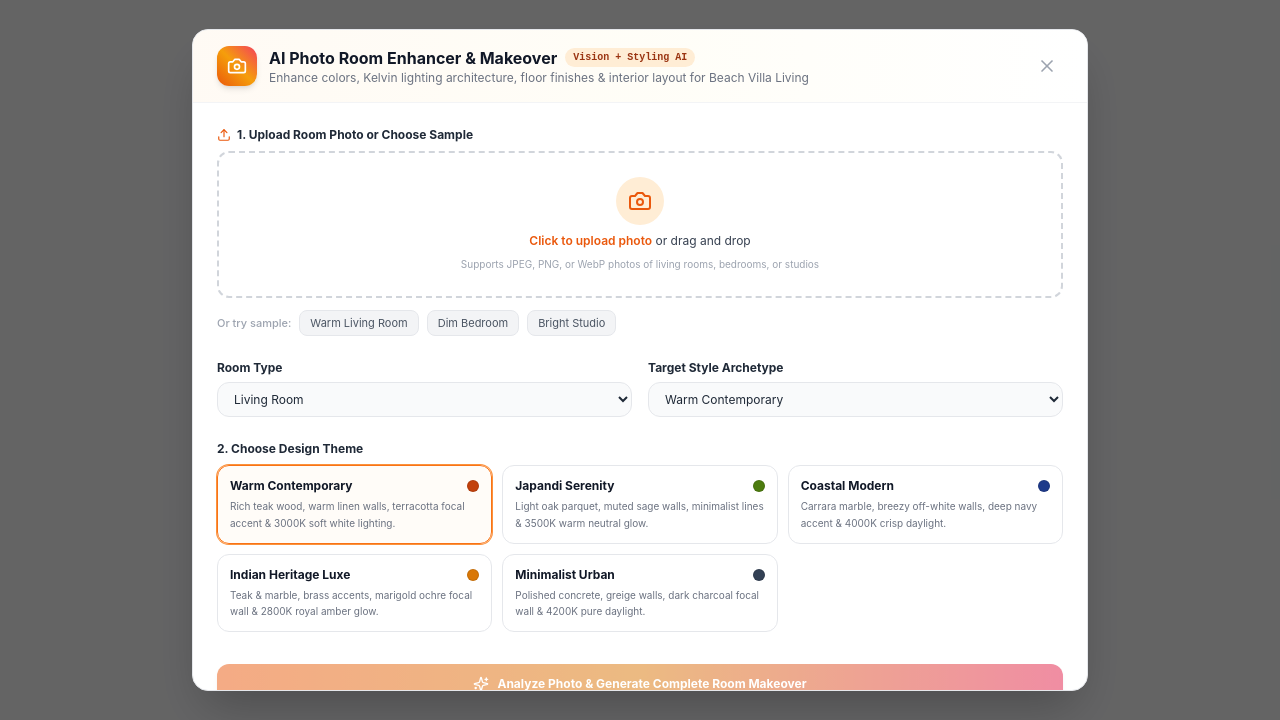
AIRoomEnhancerModal › enables analysis and displays proposal when sample is selected and analyzed
The width and height of the screenshot is (1280, 720).
Select sample preset
Click the button "Warm Living Room" at (359, 323), box [299, 310, 419, 336]
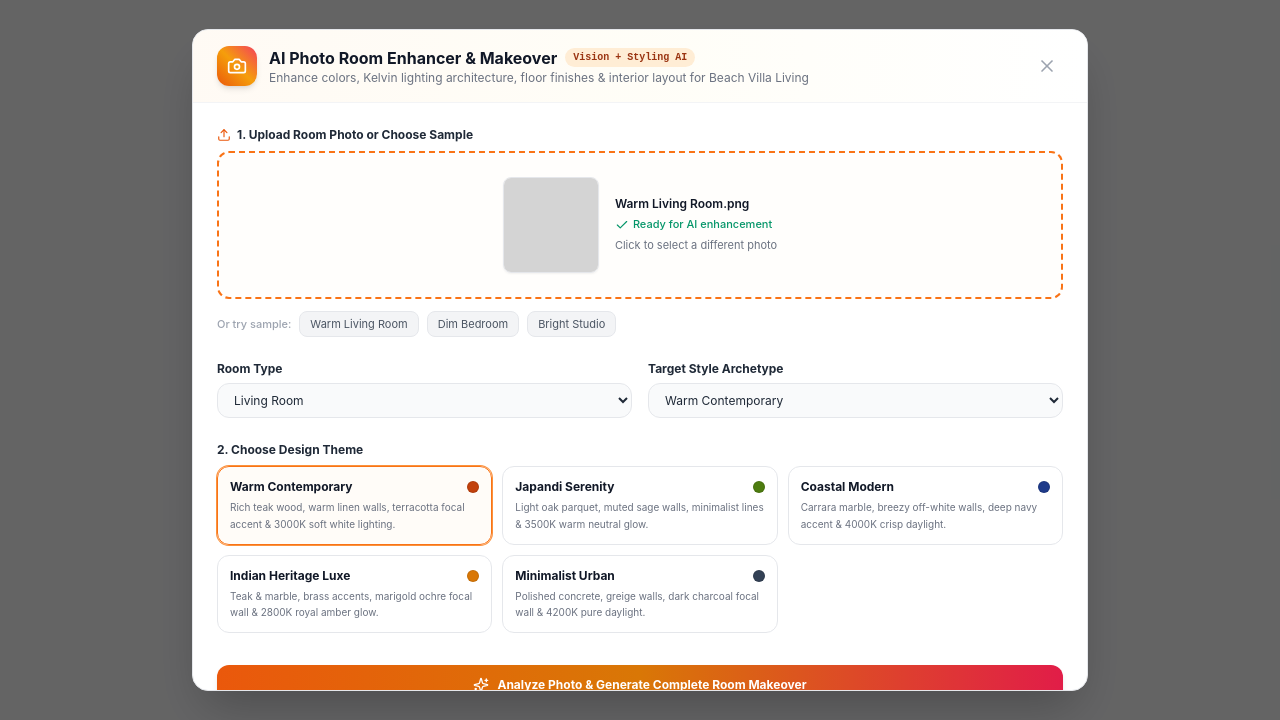
Click the button "Analyze Photo & Generate Complete Room Makeover" at (640, 685), box [217, 665, 1063, 705]
(page scrolled)
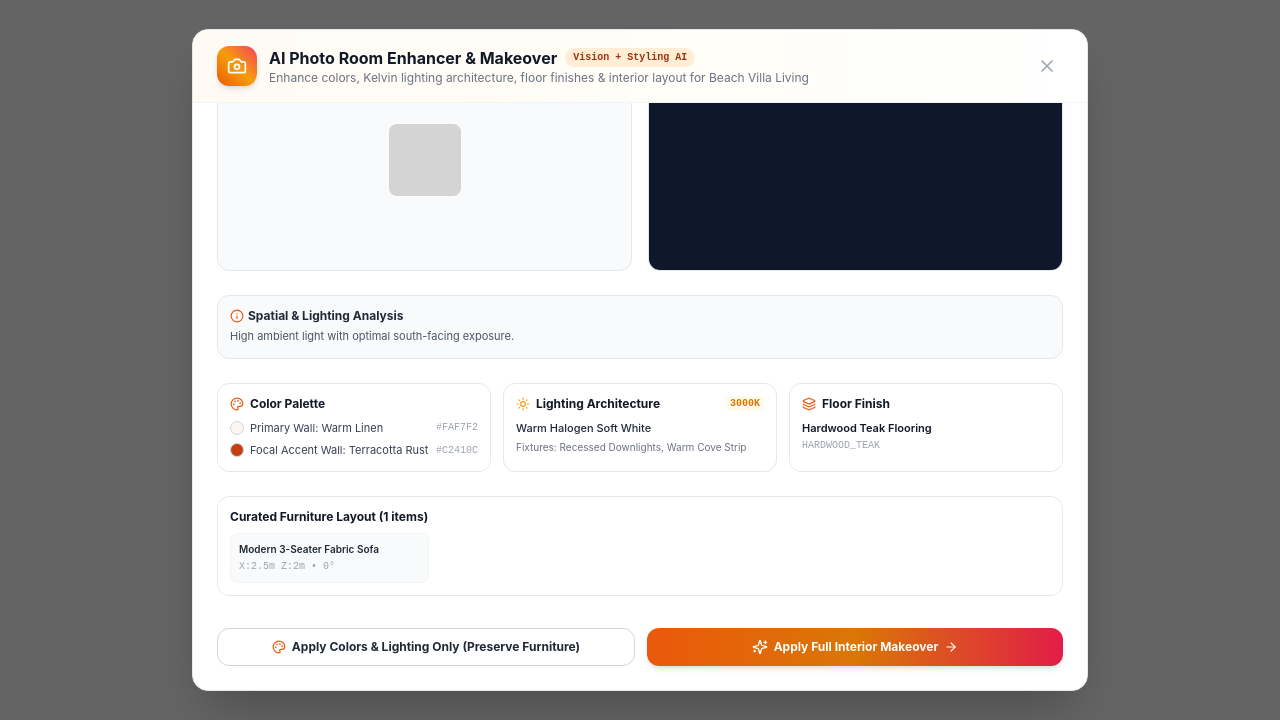
Expected: the text "Apply Colors & Lighting Only (Preserve Furniture)" is shown, [292, 639, 580, 655]
Expected: the text "Apply Full Interior Makeover" is shown, [774, 639, 938, 655]
